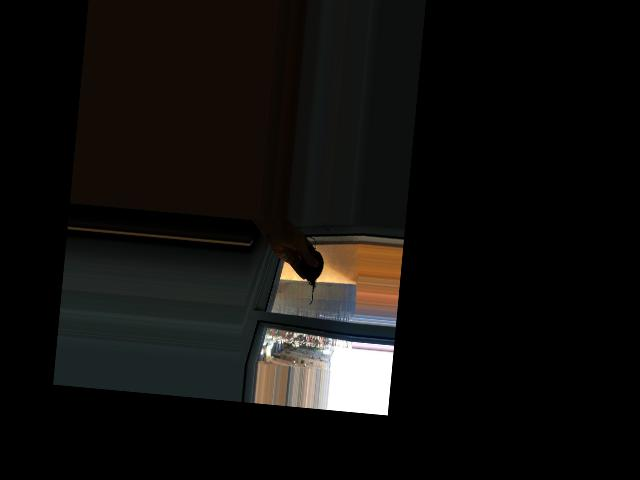beet: (290, 235, 325, 306)
